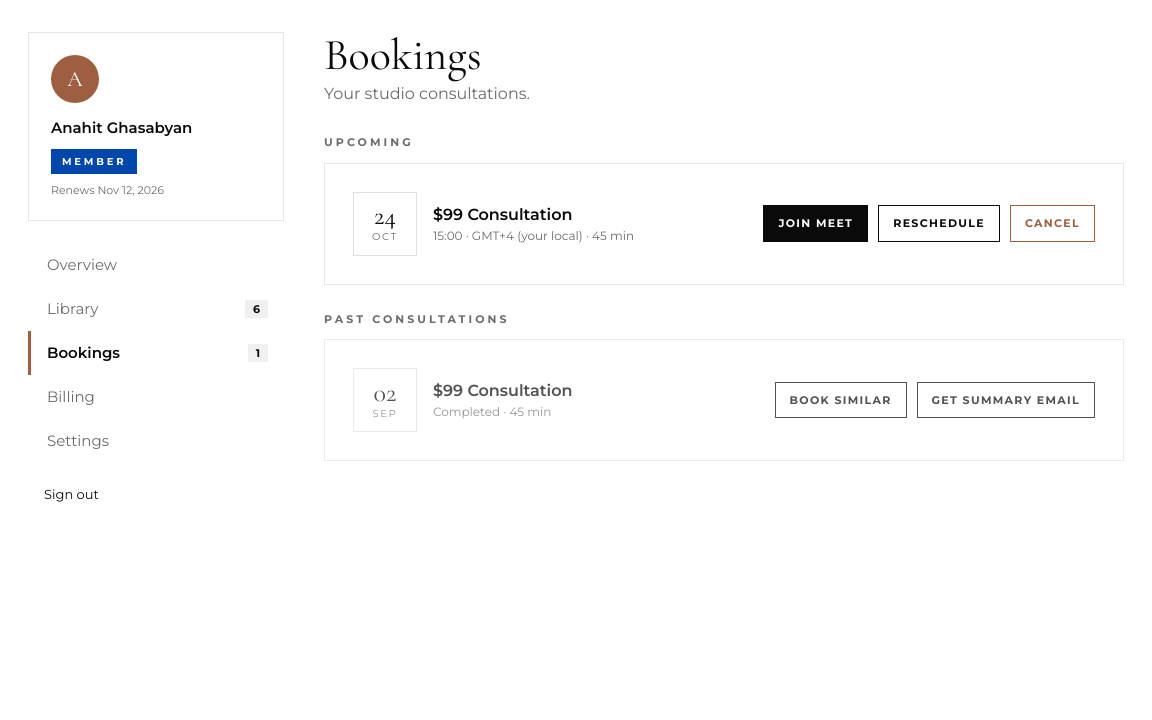
Test case: AC-001 — Account dashboard › Cancel-booking modal shows the full-refund branch for a >24h slot
This screenshot has width=1152, height=720.
What coordinates should you click on to do the following:
click the button "Cancel"
I would click on:
 (1052, 224)
Its box is x1=1010 y1=205 x2=1095 y2=242.
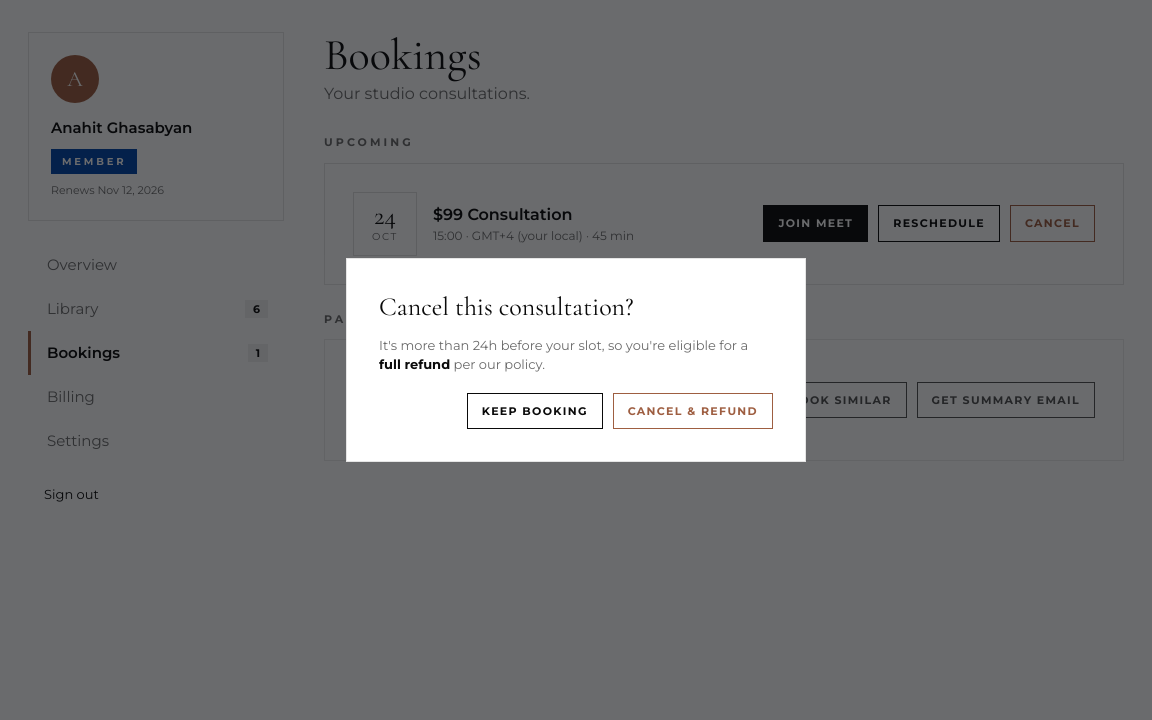
Check: the text "full refund" is shown, box x1=379 y1=356 x2=450 y2=372
